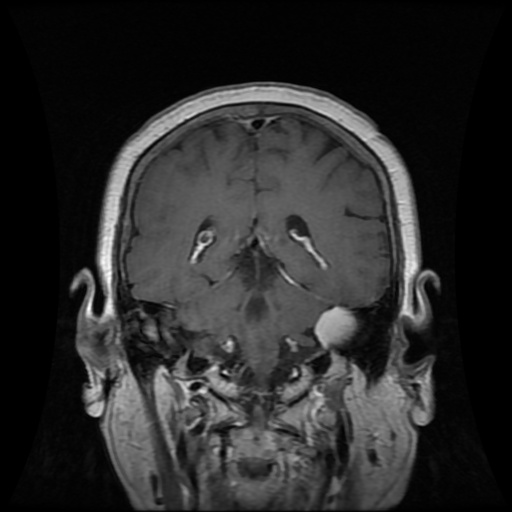meningioma: (313, 303, 357, 350)
